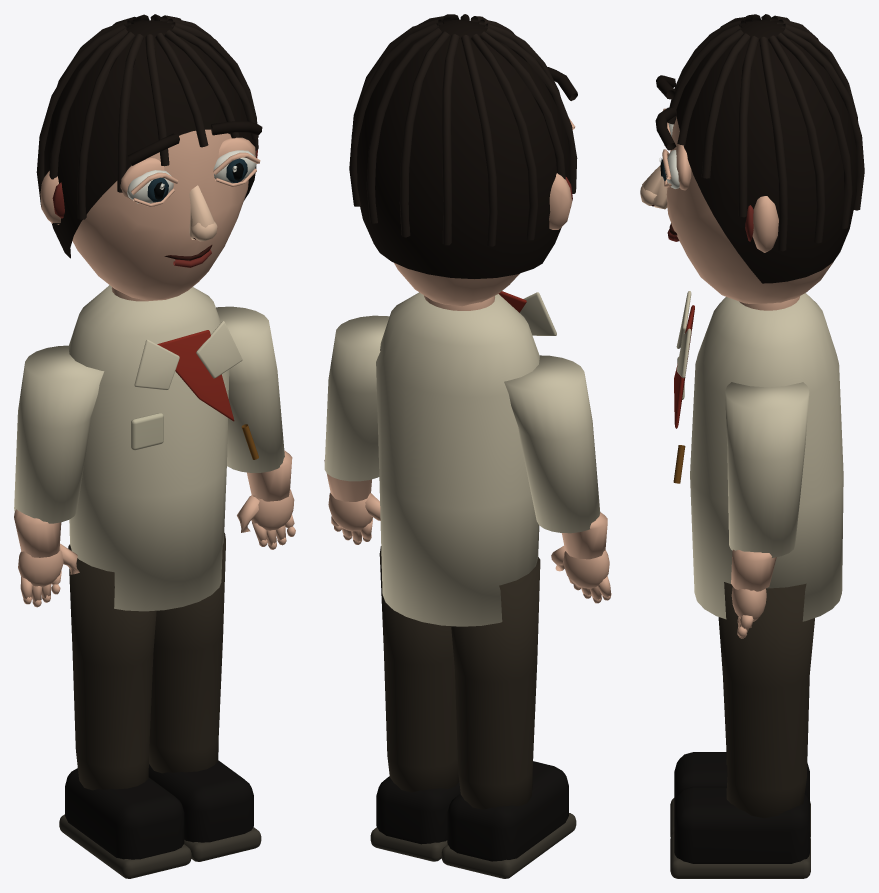
The model's file is receptionist-01.glb.
The picture shows the model from 3 angles, left to right: view 1: azimuth 30°, elevation 25°; view 2: azimuth 150°, elevation 25°; view 3: azimuth 270°, elevation 25°; orthographic projection.
Visible parts, largest first — view 1: Head, Body, LegL, LegR, ArmL, ArmR; view 2: Head, Body, LegL, LegR, ArmL, ArmR; view 3: Head, Body, LegR, ArmR, LegL.
Boxes of the visible parts, <box> form: Head: <box>36,14,262,300</box>; Body: <box>68,285,258,611</box>; LegL: <box>59,544,191,878</box>; LegR: <box>148,533,261,861</box>; ArmL: <box>14,345,104,607</box>; ArmR: <box>216,306,295,549</box>; Head: <box>349,14,577,306</box>; Body: <box>376,291,556,626</box>; LegL: <box>441,557,576,878</box>; LegR: <box>370,546,460,861</box>; ArmL: <box>504,355,611,603</box>; ArmR: <box>324,315,389,544</box>; Head: <box>640,14,864,303</box>; Body: <box>673,291,843,621</box>; LegR: <box>670,582,814,878</box>; ArmR: <box>725,382,809,638</box>; LegL: <box>670,752,810,836</box>.
Size of the model in its own units: 0.4978 by 1.41 by 0.3488.
